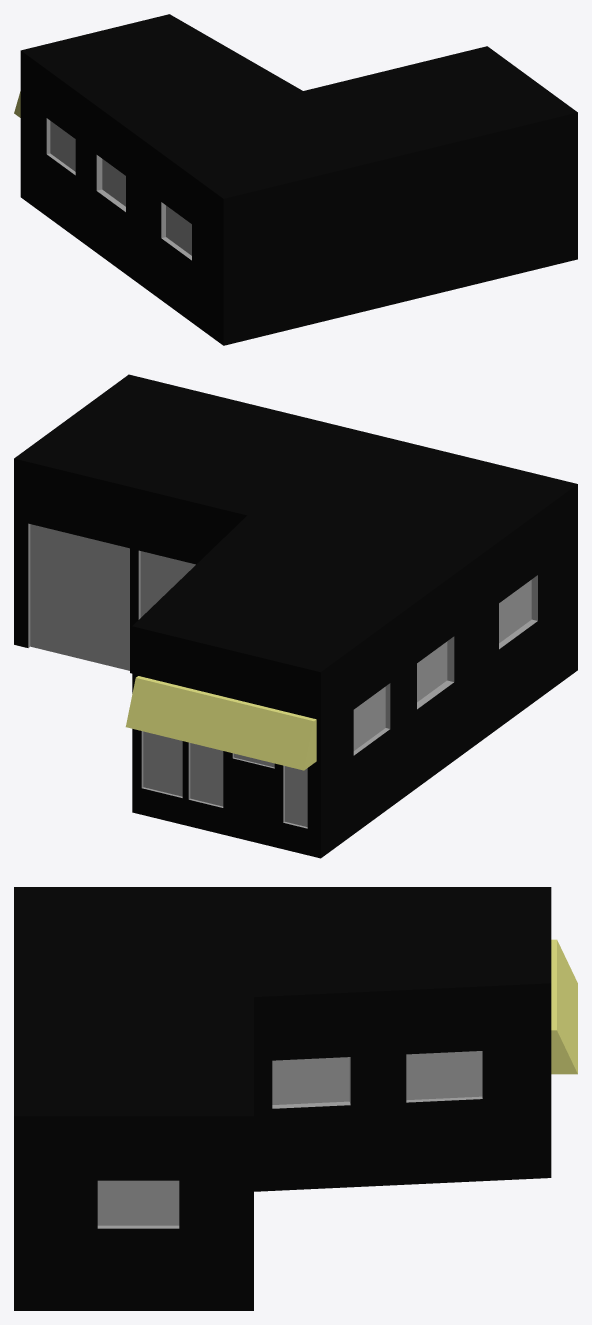
The model's file is Pawn Shop.fbx.
3 views of the same model, one above another, from view 1: azimuth 30°, elevation 25°; view 2: azimuth 150°, elevation 25°; view 3: azimuth 270°, elevation 25° (orthographic). The views are drawn at different scales.
Parts seen in each view (by area): view 1: Pawn_Shop; view 2: Pawn_Shop, Pawn_Shop_Awning; view 3: Pawn_Shop, Pawn_Shop_Awning.
Part boxes in pixels (box(x1,y1,x2,y2)): Pawn_Shop: box(20, 14, 577, 345); Pawn_Shop: box(14, 374, 577, 858); Pawn_Shop_Awning: box(125, 676, 316, 770); Pawn_Shop: box(14, 887, 551, 1310); Pawn_Shop_Awning: box(551, 939, 577, 1074).
Size of the model in its own units: 1.48 by 0.5848 by 1.54.
